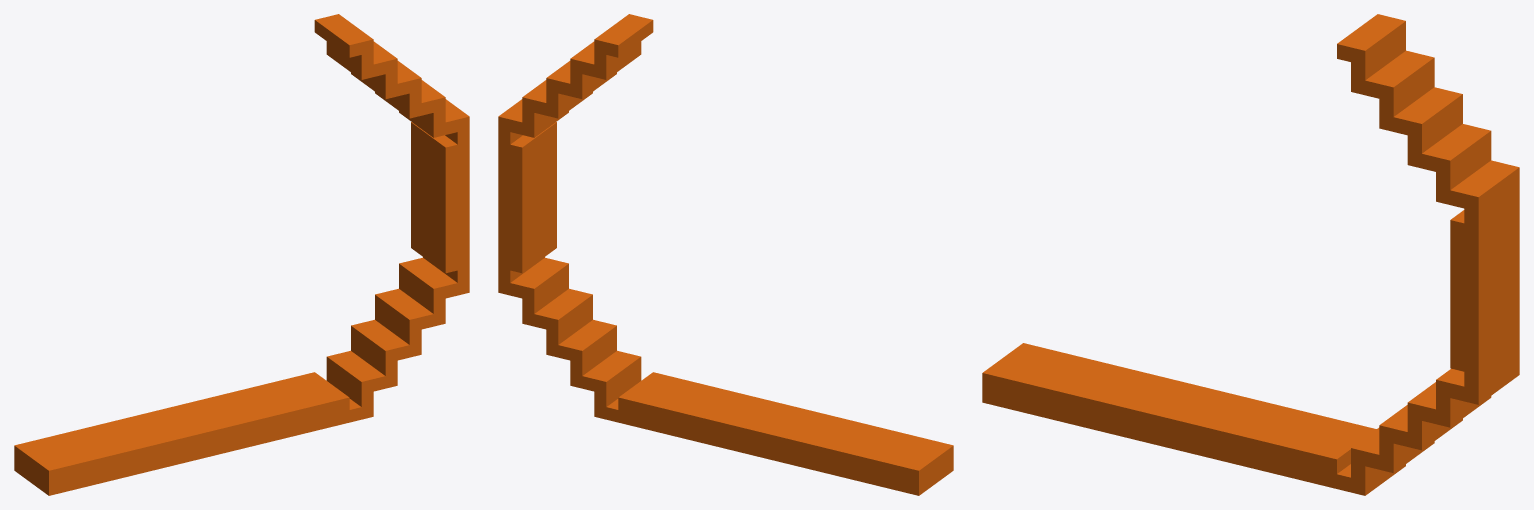
File: stage2-7.fbx
The picture shows the model from 3 angles, left to right: view 1: azimuth 30°, elevation 25°; view 2: azimuth 150°, elevation 25°; view 3: azimuth 330°, elevation 25°; orthographic projection. The views are drawn at different scales.
Parts seen in each view (by area): view 1: passage6; view 2: passage6; view 3: passage6.
Part boxes in pixels (x1=…): passage6: x1=14, y1=14, x2=469, y2=495; passage6: x1=498, y1=14, x2=953, y2=495; passage6: x1=982, y1=14, x2=1519, y2=495.
Size of the model in its own units: 350 by 300 by 50.
